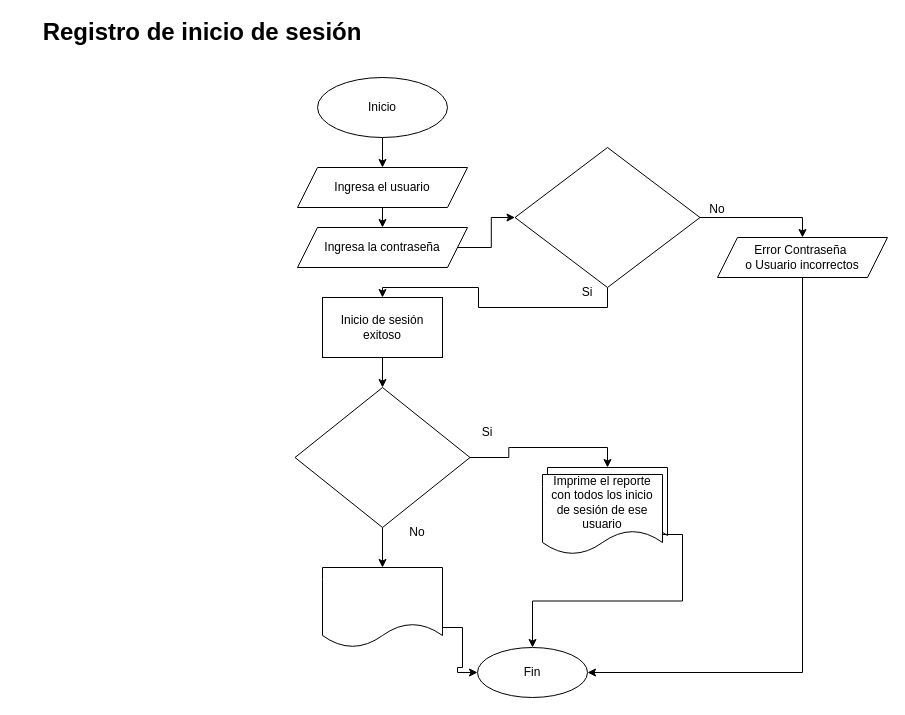
Some shapes in this 905 by 715 pixel diagram are drawn without their labels. The shapes that lost their labels are listed below. From the top down, each one's centre as x and y in pixels, then its label:
the point at 607,217: El correo y contraseña pertenece a ese usuario?
the point at 382,457: El usuario ya habia iniciado sesion antes ?
the point at 382,607: Imprime un reporte de solo el inicio de sesión actual
